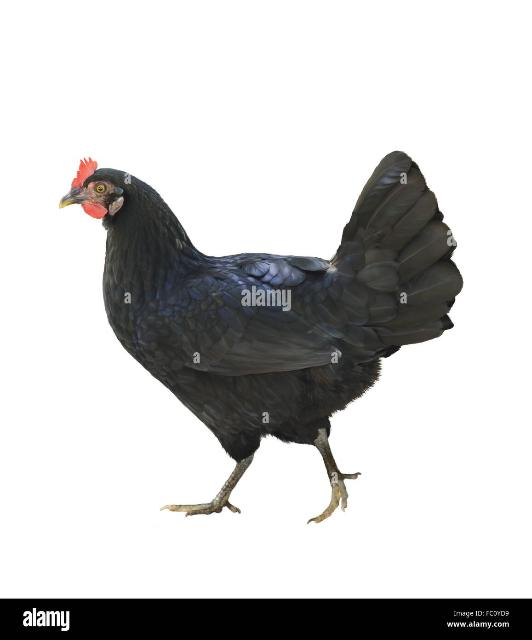Chicken: (58, 147, 461, 526)
